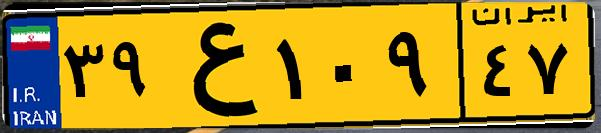0: (330, 28, 385, 110)
1: (270, 28, 330, 110)
3: (57, 26, 110, 100)
4: (475, 38, 525, 113)
7: (525, 38, 570, 115)
9: (385, 28, 445, 110), (110, 28, 158, 98)
ع: (158, 12, 270, 120)
